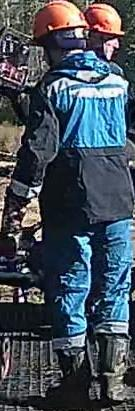helmet: (31, 0, 88, 41), (82, 2, 125, 37)
vest: (38, 51, 130, 225)
